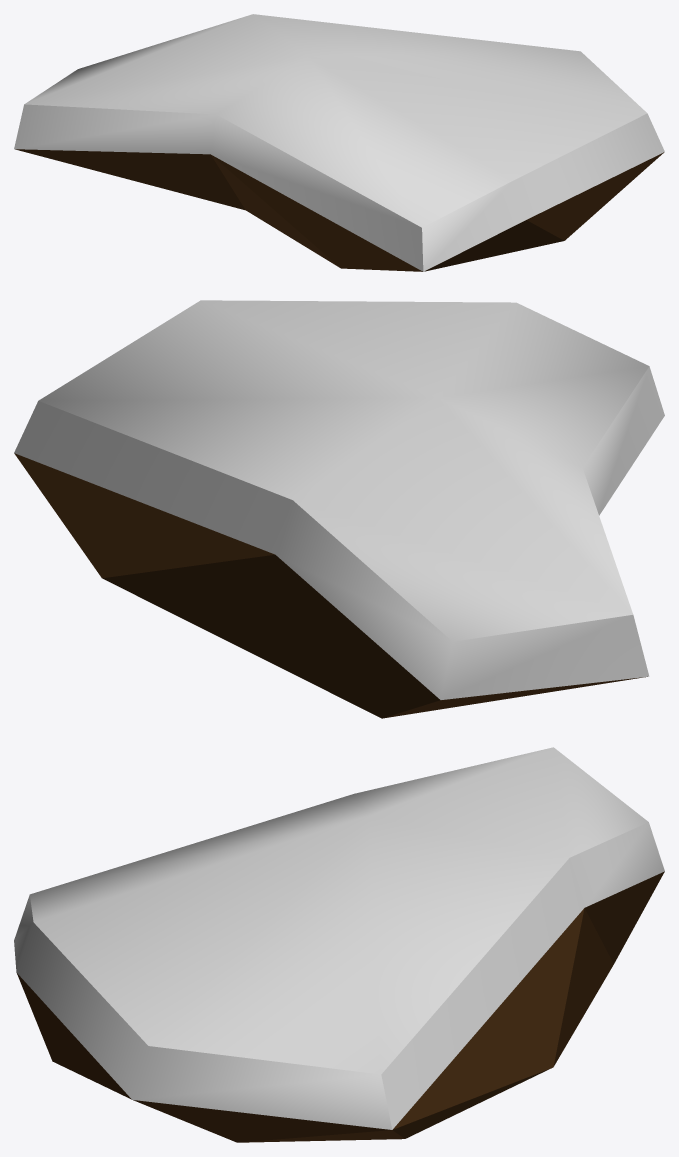
The model's file is rock6.fbx.
3 renders of one model, top to bottom at view 1: azimuth 30°, elevation 25°; view 2: azimuth 150°, elevation 25°; view 3: azimuth 270°, elevation 25°, orthographic. The views are drawn at different scales.
Visible parts, largest first — view 1: merge6; view 2: merge6; view 3: merge6.
Boxes of the visible parts, <box> form: merge6: <box>14,14,664,271</box>; merge6: <box>14,300,664,718</box>; merge6: <box>14,747,664,1142</box>.
Bounding box in the file's own units: 2.07 × 0.6972 × 1.78.
